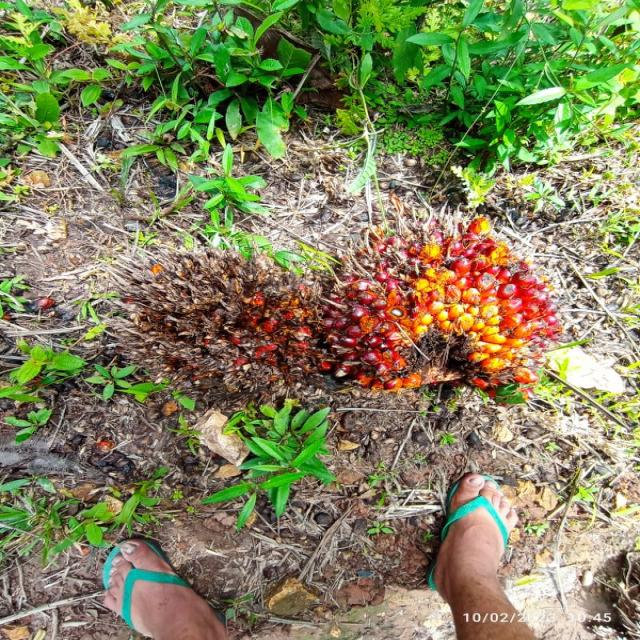fraksi 3: (314, 184, 570, 428)
fraksi 4: (109, 216, 318, 410)
